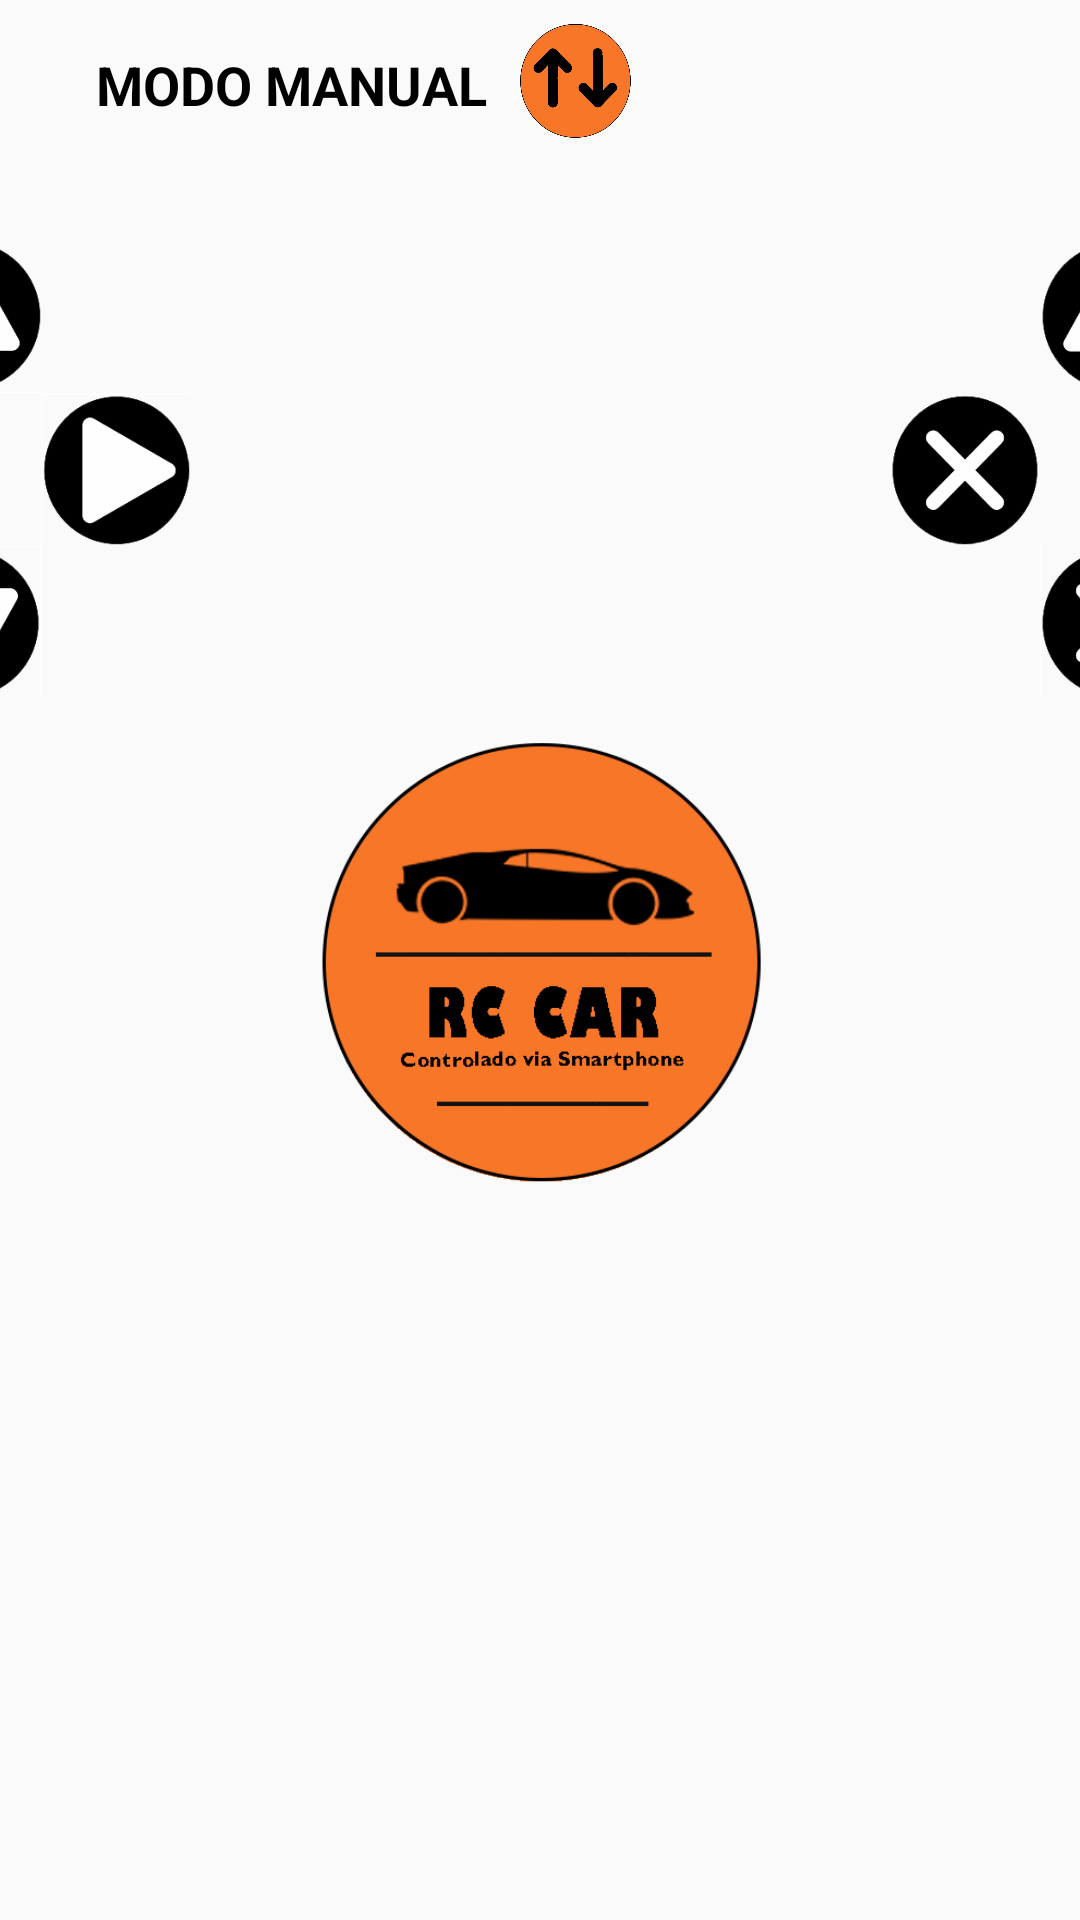

Where icons sit on this 1080x1920 app screen, as bbox(x1, y1, x2, y2):
change: bbox(520, 24, 631, 138)
direita: bbox(44, 396, 190, 545)
